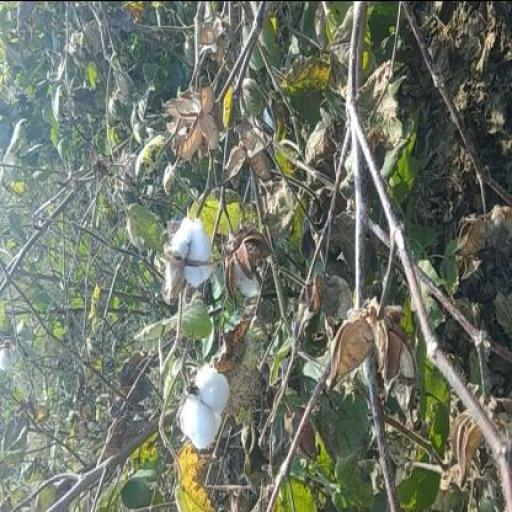cotton_ready: (172, 358, 249, 474), (158, 181, 233, 289)
